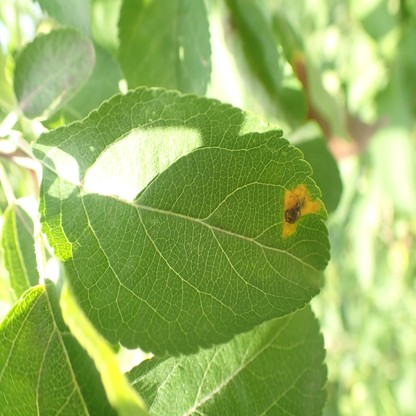rust: (282, 184, 319, 236)
